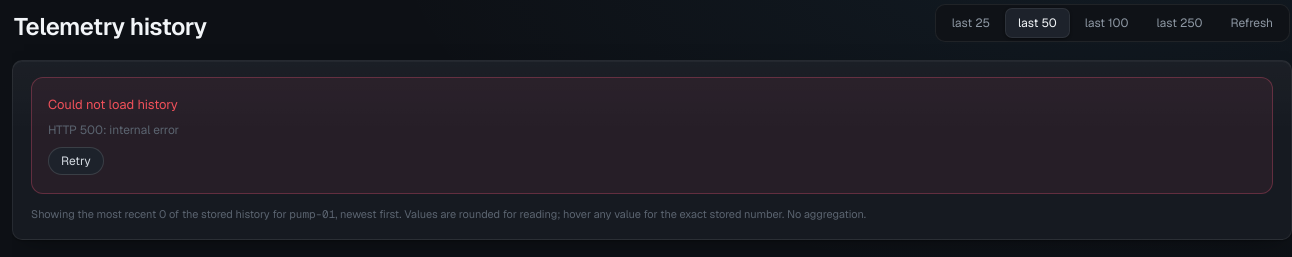
Test: HistoryPage › turns a backend 500 into an error card whose retry really refetches (AC10 P5-10)
The width and height of the screenshot is (1292, 257).
Check: the message "Could not load history HTTP 500: internal error Retry" is shown, box [31,77,1273,194]
Check: the message with test id "state-error" shows "internal error", box [48,122,179,138]
Click the button "Retry": [76, 161] box [48,147,104,175]
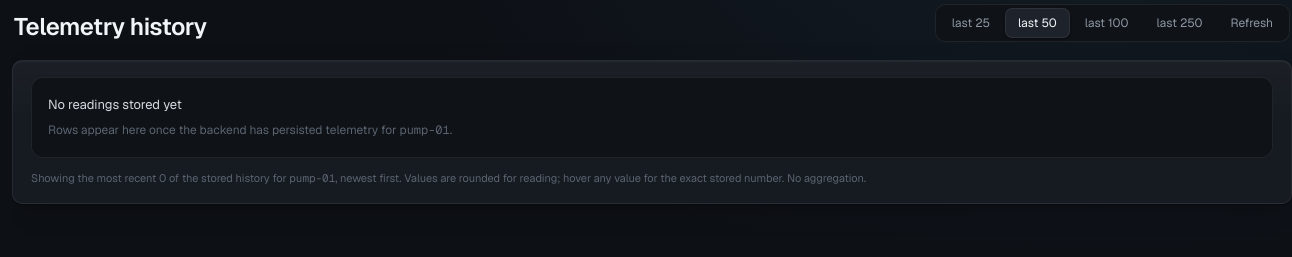
Check: the message with test id "state-empty" is shown, box [31,77,1273,158]
